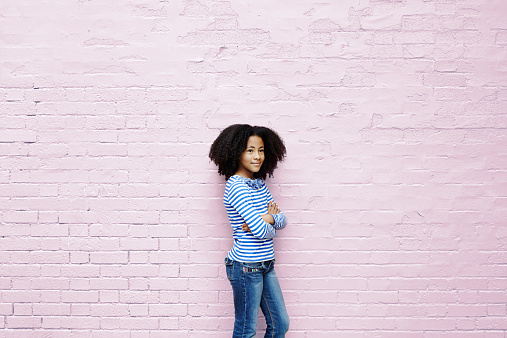em pe: (211, 122, 300, 338)
